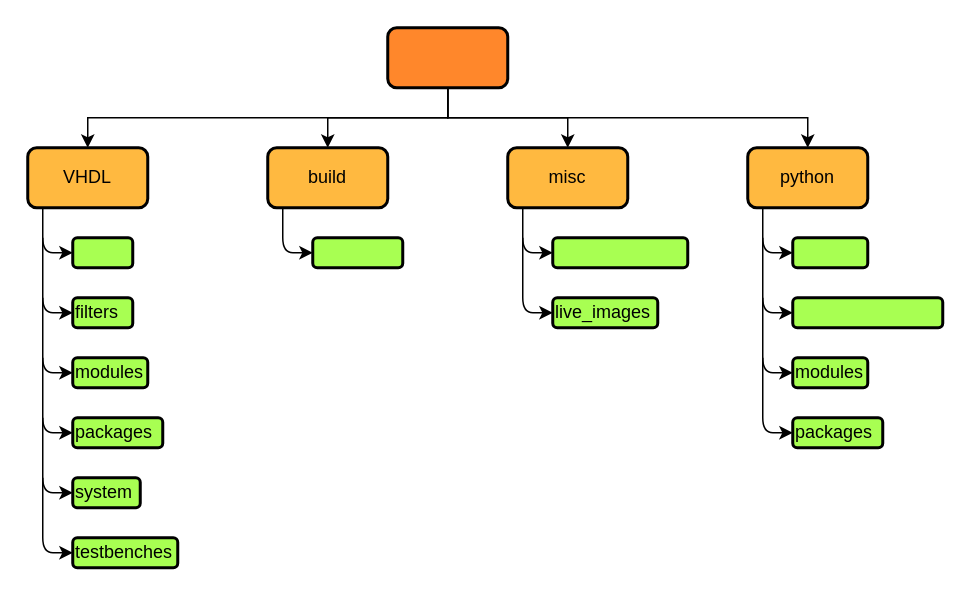
This 969x594 diagram has some shape labels left out. Here are the shapes that lost their labels. From the top down, the box of each, then its label:
(386, 26, 508, 88): HEAD
(70, 236, 134, 268): control
(310, 236, 404, 268): MakeFile
(550, 236, 688, 268): filtered_images
(790, 236, 868, 268): filter.py
(790, 296, 944, 328): image_viewer.py
